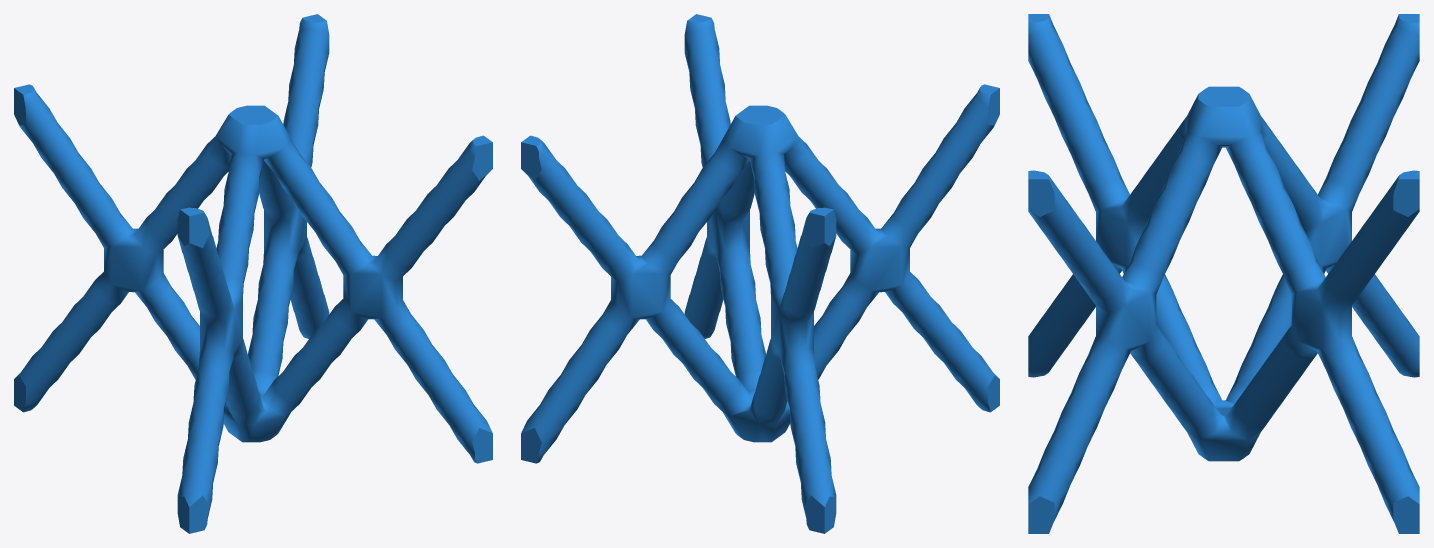
File: Variation1.glb
3 views of the same model, side by side, from view 1: azimuth 30°, elevation 25°; view 2: azimuth 150°, elevation 25°; view 3: azimuth 270°, elevation 25° (orthographic). The views are drawn at different scales.
Parts seen in each view (by area): view 1: Mesh_0.005; view 2: Mesh_0.005; view 3: Mesh_0.005.
Part boxes in pixels (x1,y1,x2,y2): Mesh_0.005: (14,14,492,533); Mesh_0.005: (521,14,999,533); Mesh_0.005: (1028,14,1419,533).
Size of the model in its own units: 1 by 1 by 1.
